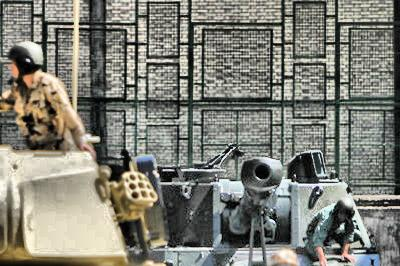tanks: (1, 148, 168, 266)
